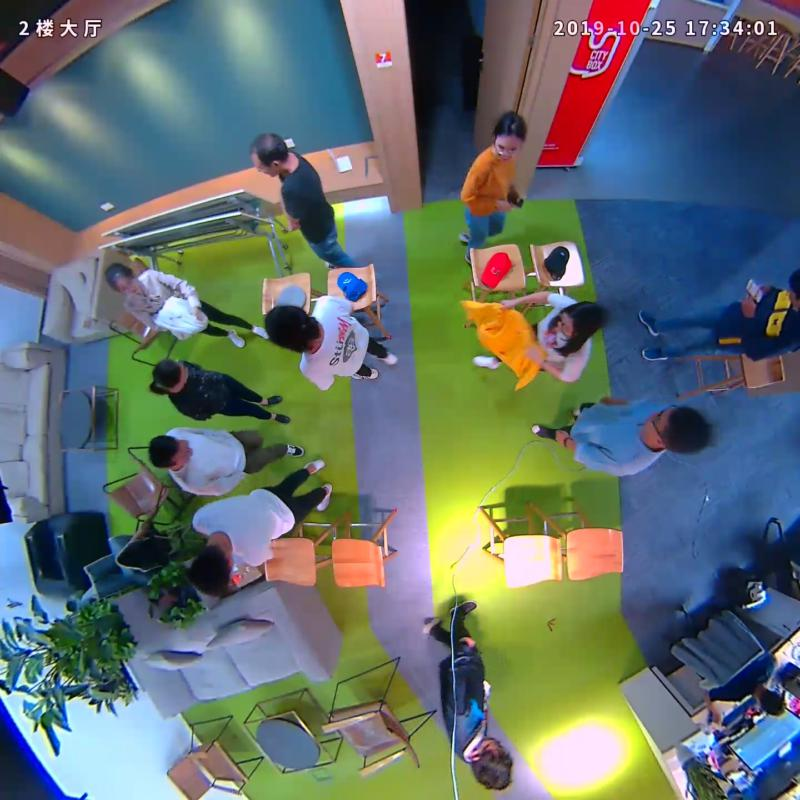head: (644, 404, 710, 454), (189, 540, 234, 598), (469, 735, 512, 791), (264, 305, 311, 349), (250, 134, 290, 178), (492, 111, 527, 161), (555, 301, 603, 336), (148, 434, 193, 469), (104, 261, 141, 296), (152, 358, 186, 390)
